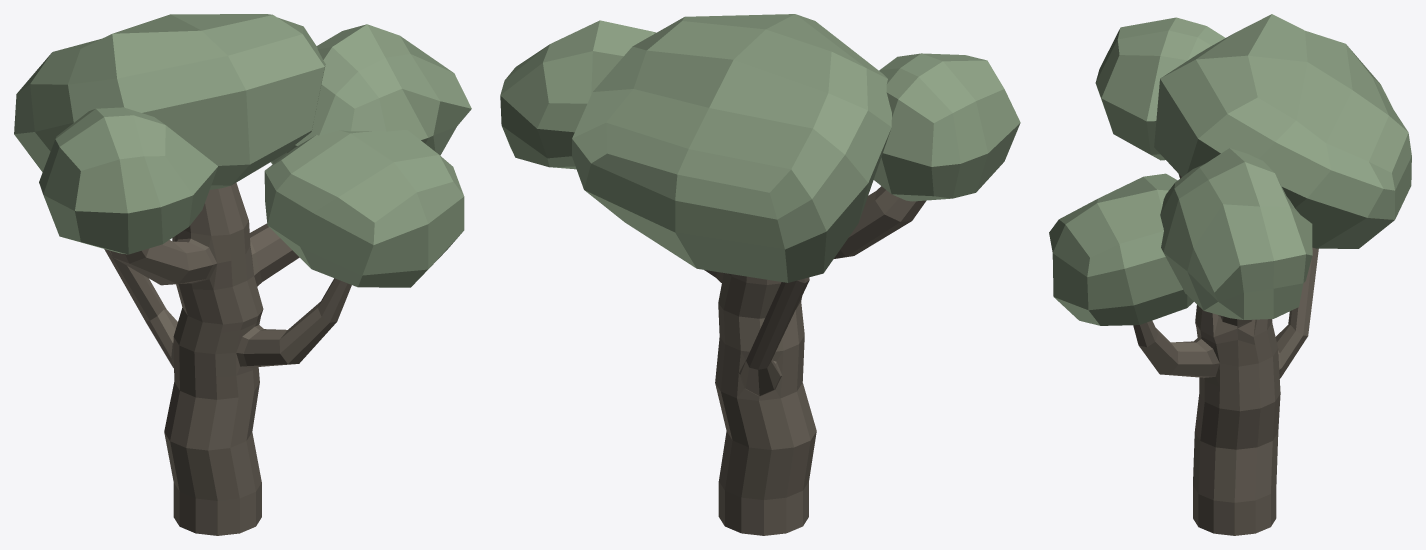
The model's file is Tree_2.fbx.
3 views of the same model, side by side, from view 1: azimuth 30°, elevation 25°; view 2: azimuth 150°, elevation 25°; view 3: azimuth 270°, elevation 25° (orthographic). The views are drawn at different scales.
Visible parts, largest first — view 1: pCylinder3, pCube69, pCube85, pCube71, pCube68; view 2: pCube69, pCylinder3, pCube71, pCube68; view 3: pCube69, pCylinder3, pCube68, pCube85, pCube71.
Part boxes in pixels (<box>): pCylinder3: <box>104,182,351,535</box>; pCube69: <box>14,14,325,189</box>; pCube85: <box>264,130,464,287</box>; pCube71: <box>39,107,217,254</box>; pCube68: <box>271,24,471,164</box>; pCube69: <box>572,14,891,282</box>; pCylinder3: <box>704,186,925,535</box>; pCube71: <box>873,53,1020,201</box>; pCube68: <box>500,20,655,169</box>; pCube69: <box>1154,14,1411,248</box>; pCylinder3: <box>1133,174,1318,535</box>; pCube68: <box>1160,148,1312,319</box>; pCube85: <box>1049,173,1193,325</box>; pCube71: <box>1095,17,1225,160</box>.
Size of the model in its own units: 5.93 by 6.31 by 4.47.
